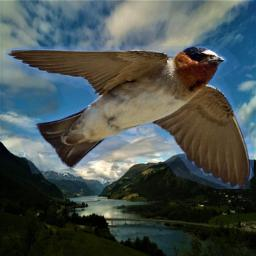Swallow: (5, 46, 254, 189)
